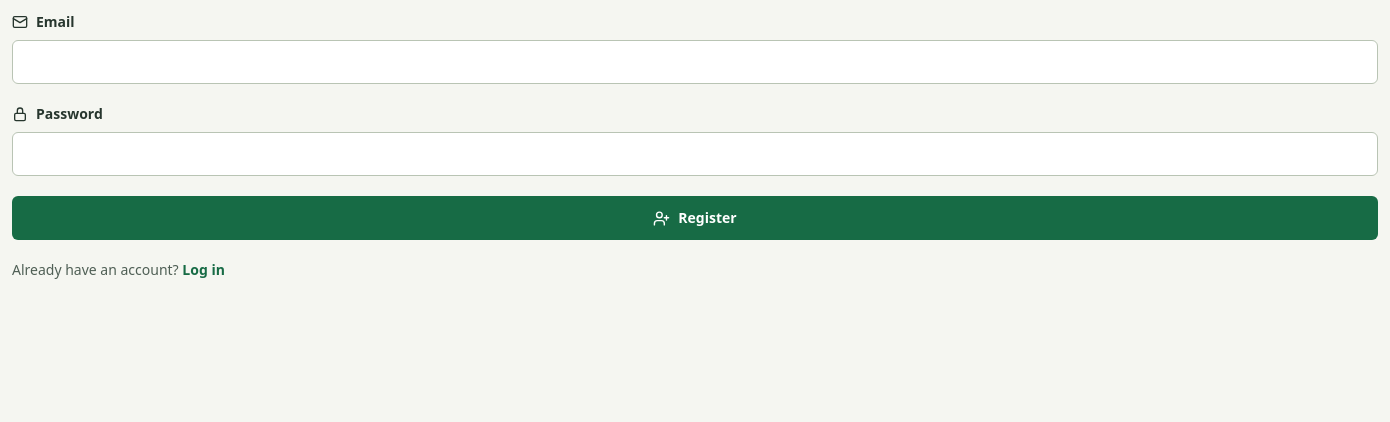
Test: AuthForm › renders backend validation errors beside their auth fields
The image size is (1390, 422).
Type "new@example.com" into the field labelled "Email" at (695, 62), box [12, 40, 1378, 84]
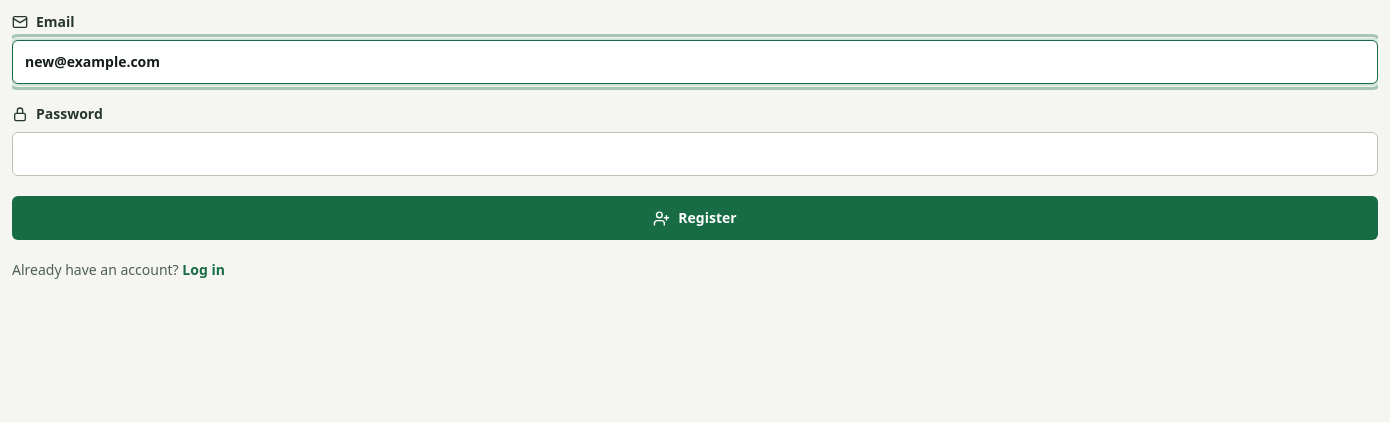
Type "password123" into the password field labelled "Password" at (695, 154), box [12, 132, 1378, 176]
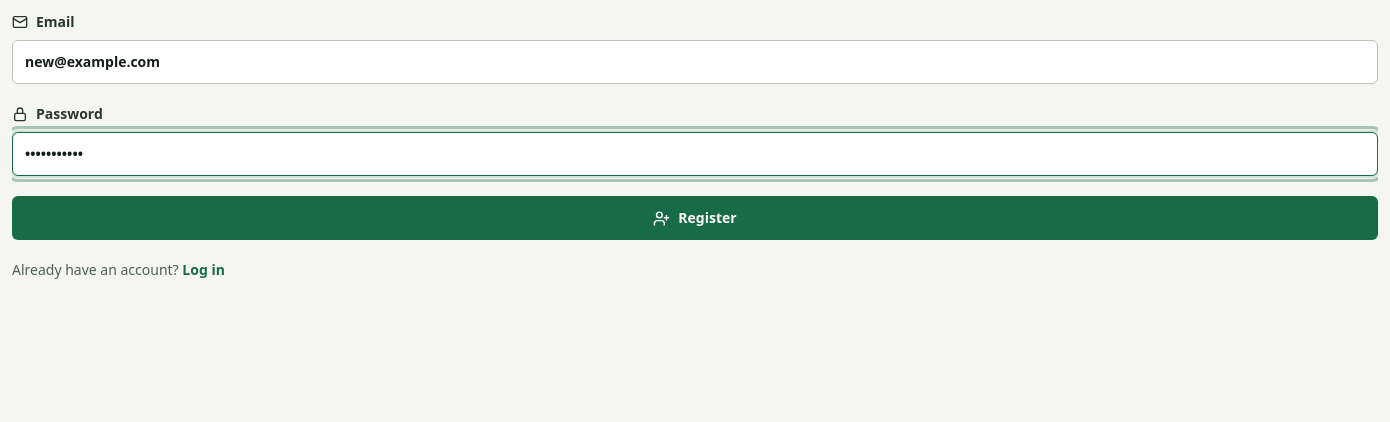
Click the button "Register" at (695, 218), box [12, 196, 1378, 240]
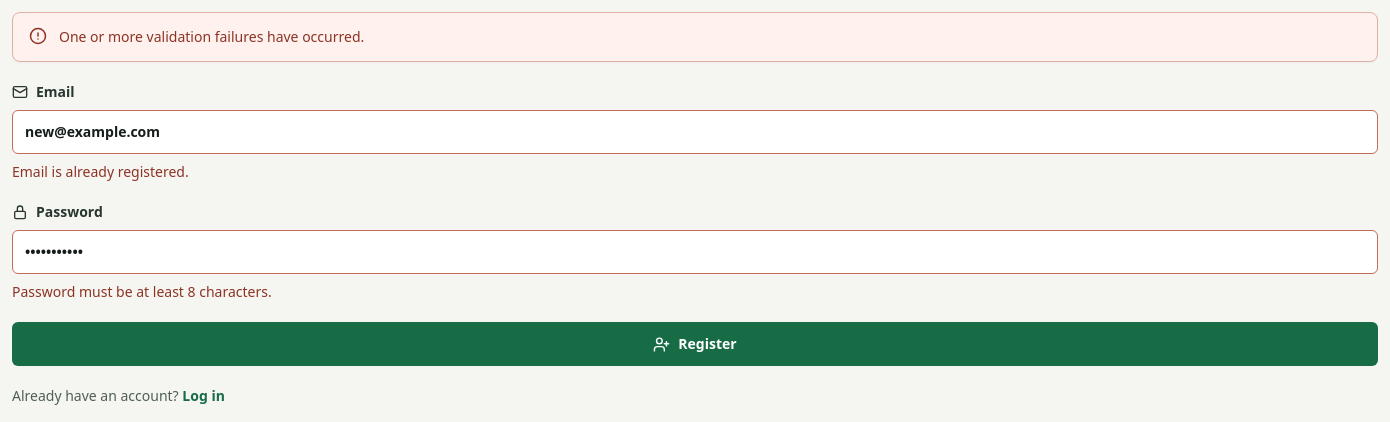
Now the text "One or more validation failures have occurred." is shown, box [59, 25, 364, 49]
Now the list item "Email is already registered." is shown, box [12, 162, 189, 181]
Now the list item "Password must be at least 8 characters." is shown, box [12, 282, 272, 301]
